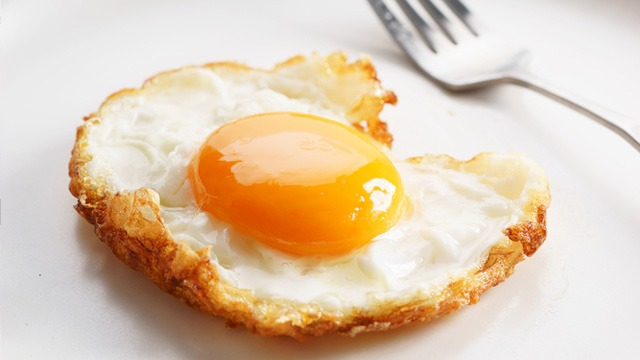Sunny Side Up: (70, 48, 550, 340)
